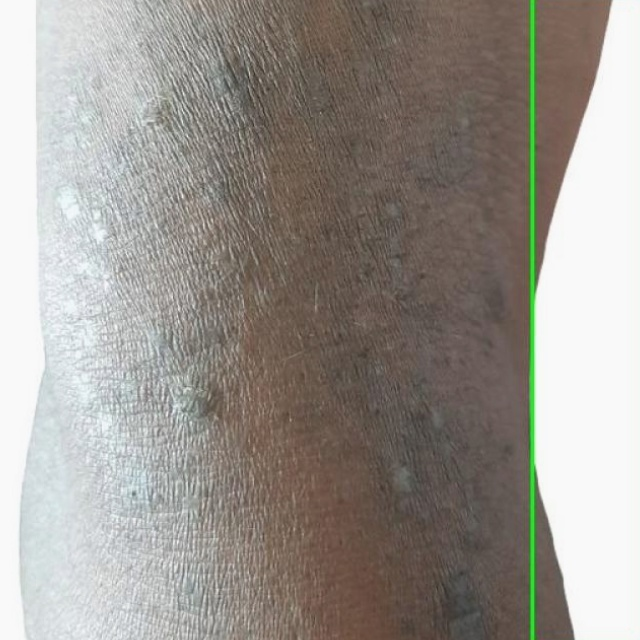Contact Dermatitis: (532, 0, 639, 639)
